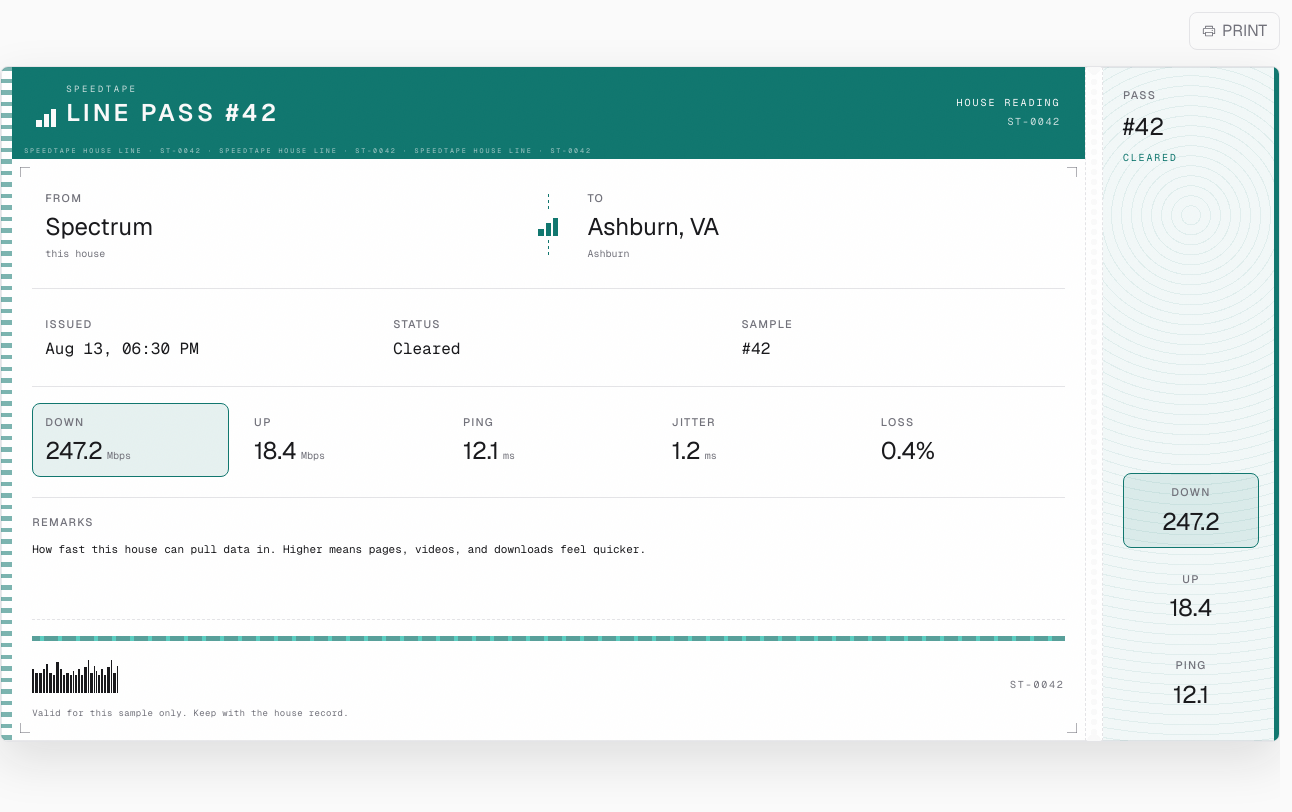
Test case: RunPass client behavior › moves remarks to the inspected field
Step 1. Click the button "Ping 12.1ms" → (548, 440), box x1=450 y1=403 x2=647 y2=477
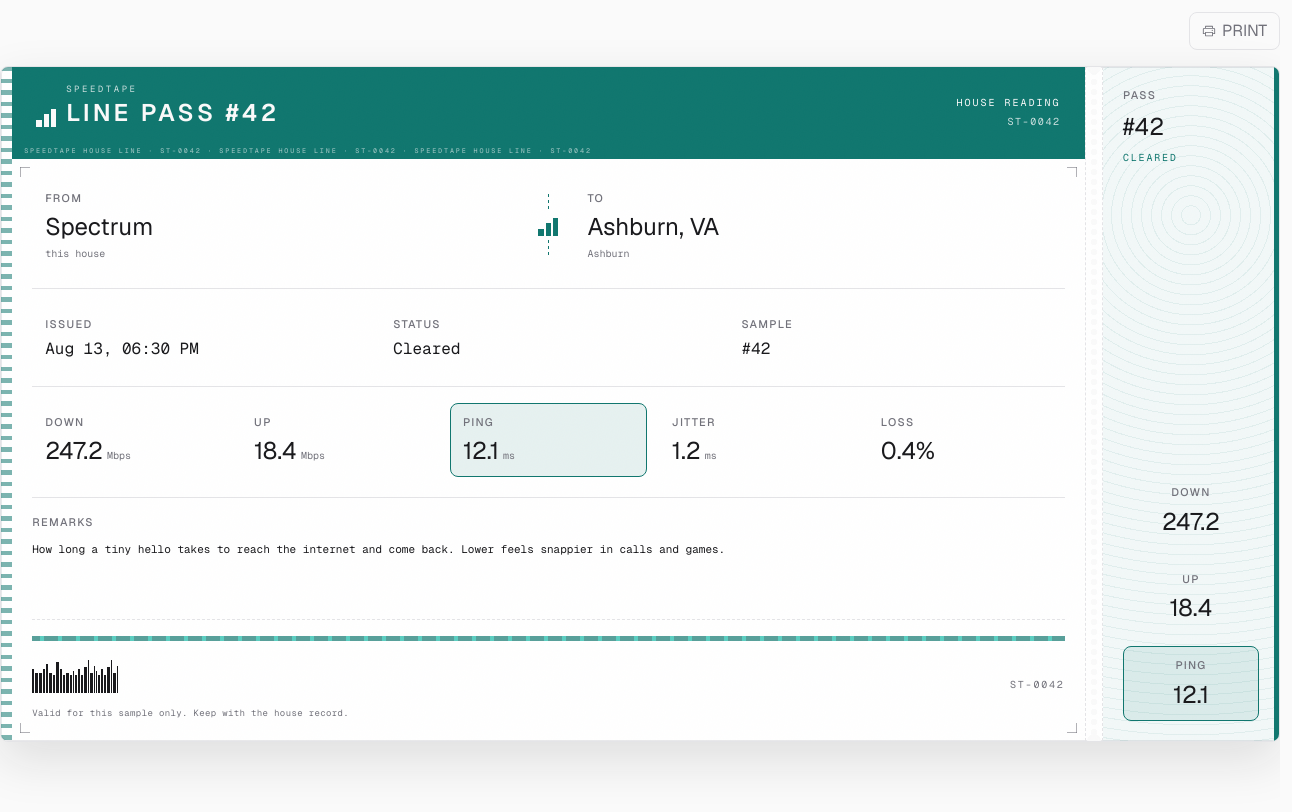
Result: the text "How long a tiny hello takes to reach the internet and come back. Lower feels snappier in calls and games." is shown at x1=32 y1=542 x2=725 y2=556
